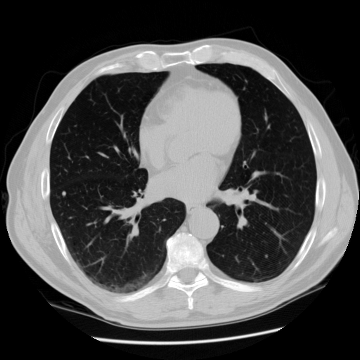nodule: (264, 254, 268, 258)
